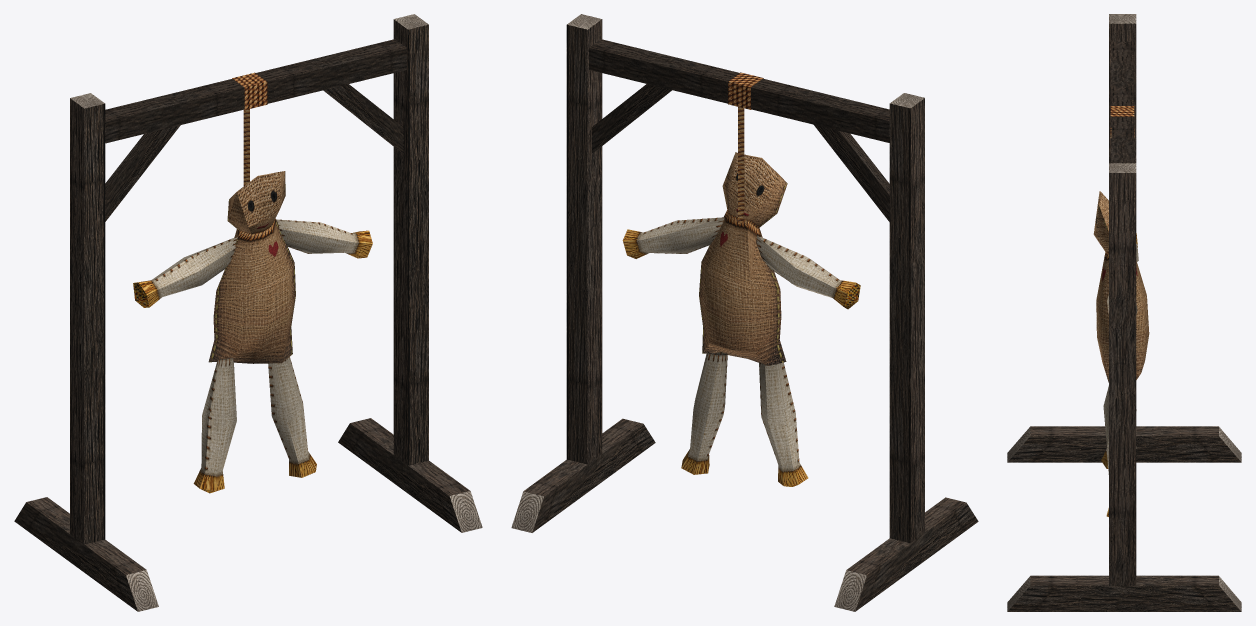
File: mm9_deco_strawdummy.glb
3 views of the same model, side by side, from view 1: azimuth 30°, elevation 25°; view 2: azimuth 150°, elevation 25°; view 3: azimuth 270°, elevation 25° (orthographic). The views are drawn at different scales.
Parts seen in each view (by area): view 1: Strawdummy; view 2: Strawdummy; view 3: Strawdummy.
Boxes of the visible parts, bbox=[...] form: Strawdummy: bbox=[14, 14, 482, 611]; Strawdummy: bbox=[511, 14, 978, 611]; Strawdummy: bbox=[1007, 14, 1241, 611].
Size of the model in its own units: 2.53 by 3.25 by 1.57.
2 materials, 2 textured.
